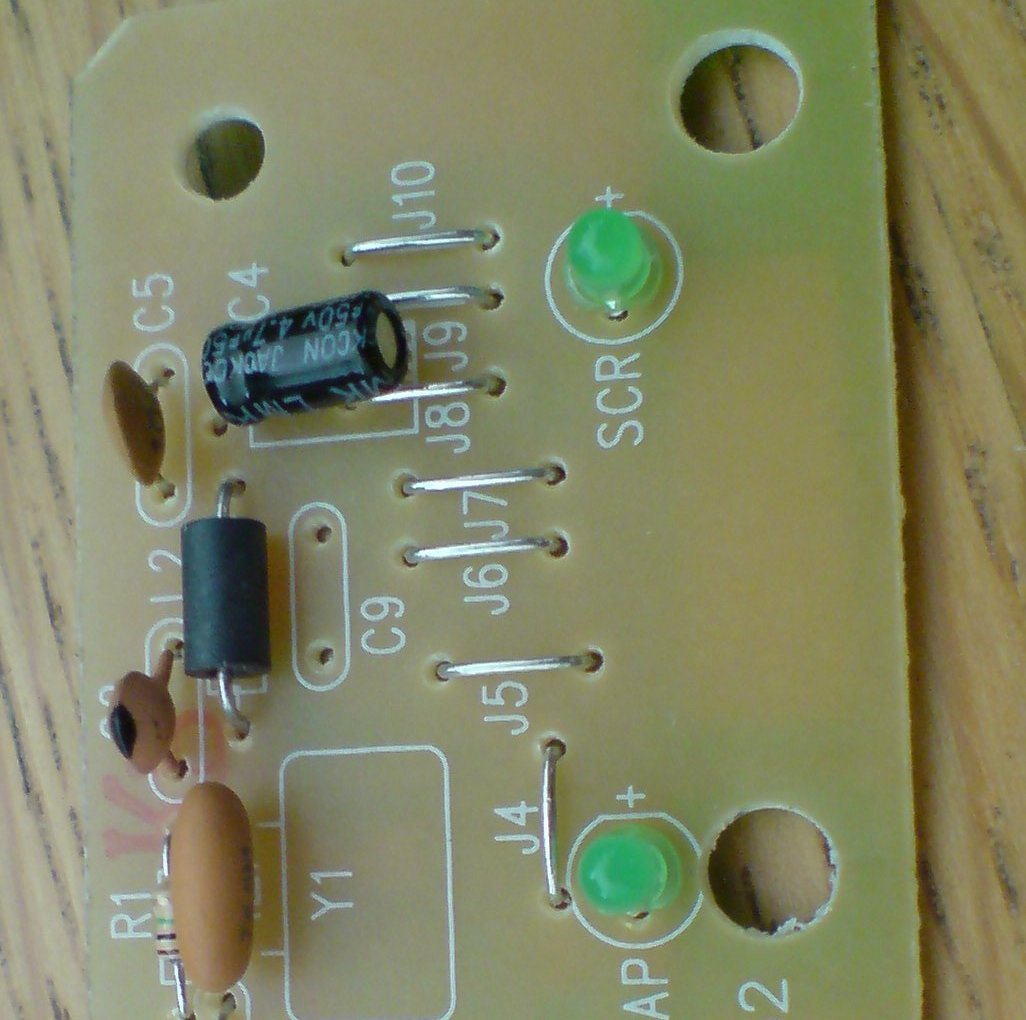Capacitor: (200, 289, 416, 427)
LED: (550, 207, 666, 316), (576, 819, 674, 925)
Resistor: (147, 875, 187, 968)
